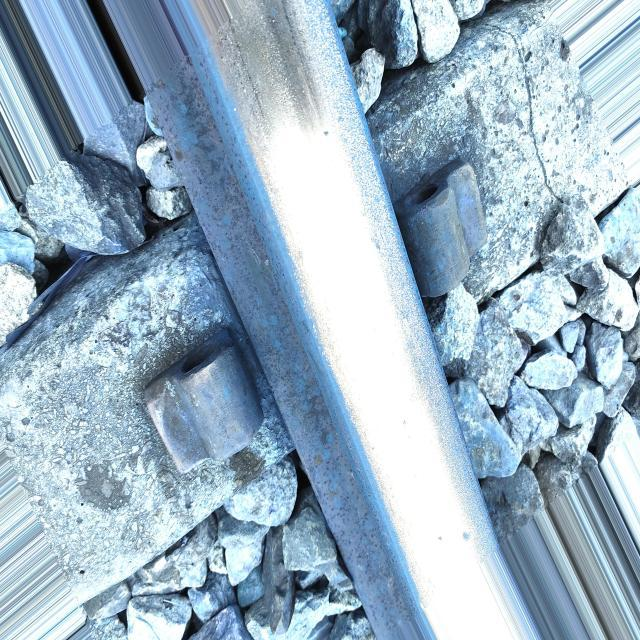Missing Fastener: (124, 301, 302, 494), (394, 136, 514, 312)
